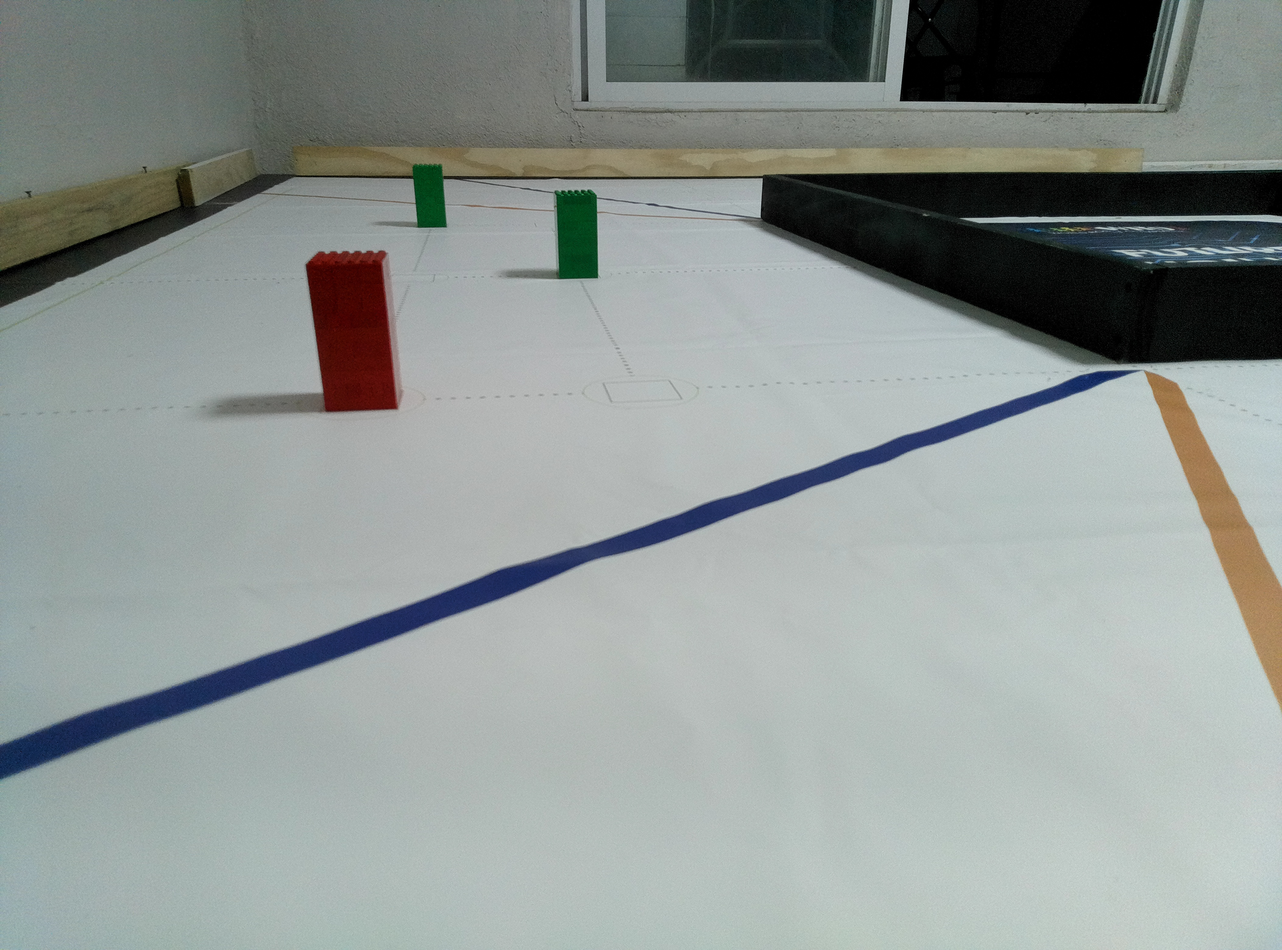greenbox: (553, 189, 599, 279), (413, 164, 447, 228)
redbox: (302, 251, 402, 413)
